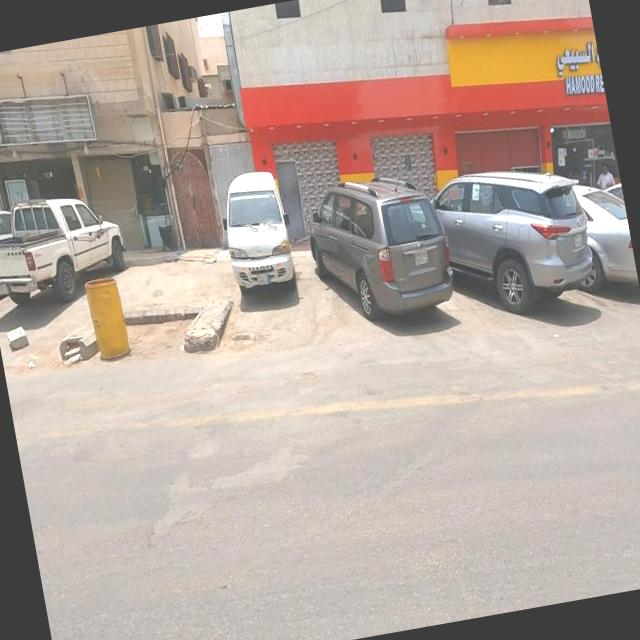debris: (0, 27, 166, 212), (0, 284, 58, 407)
